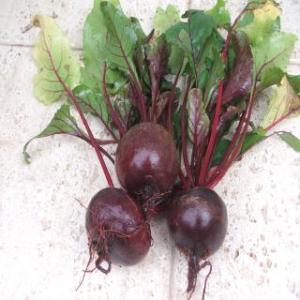beet: (84, 188, 148, 268), (169, 186, 228, 272), (113, 122, 180, 194)
